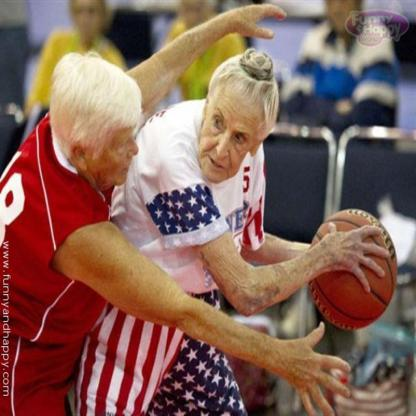face: (199, 81, 263, 181), (86, 78, 140, 188)
